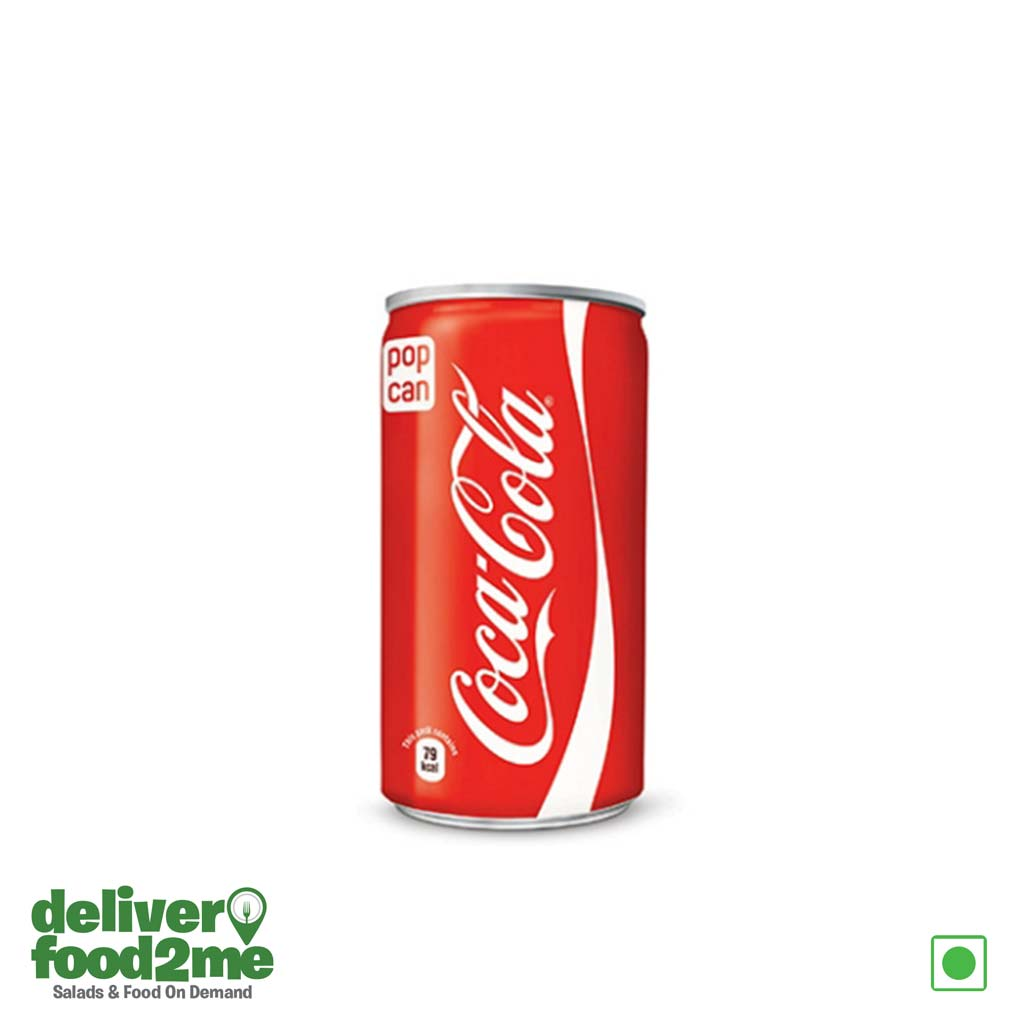coke: (432, 361, 583, 765)
